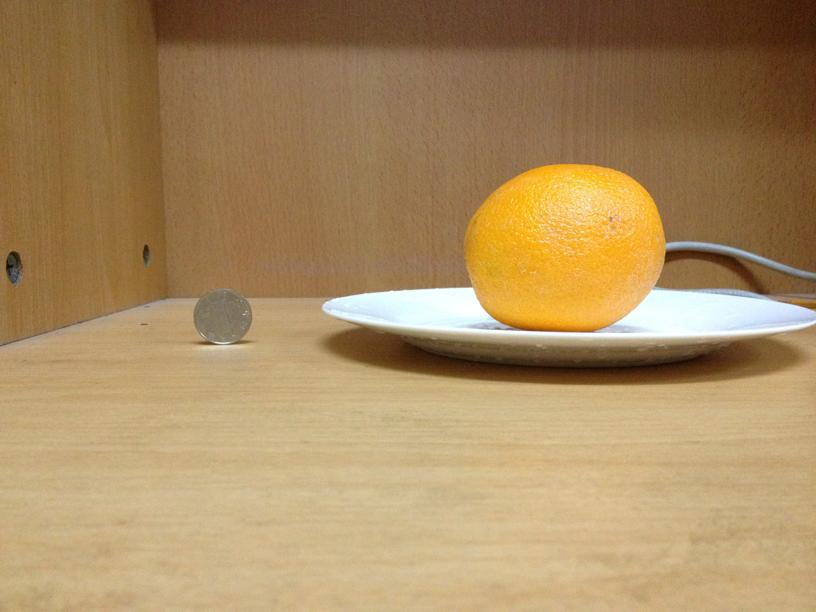coin: (189, 286, 253, 345)
orange: (459, 162, 665, 331)
